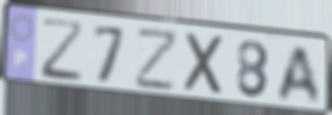7: (91, 24, 129, 87)
8: (235, 39, 269, 100)
A: (275, 43, 324, 106)
X: (183, 30, 228, 99)
Z: (38, 17, 86, 85), (134, 28, 181, 93)
